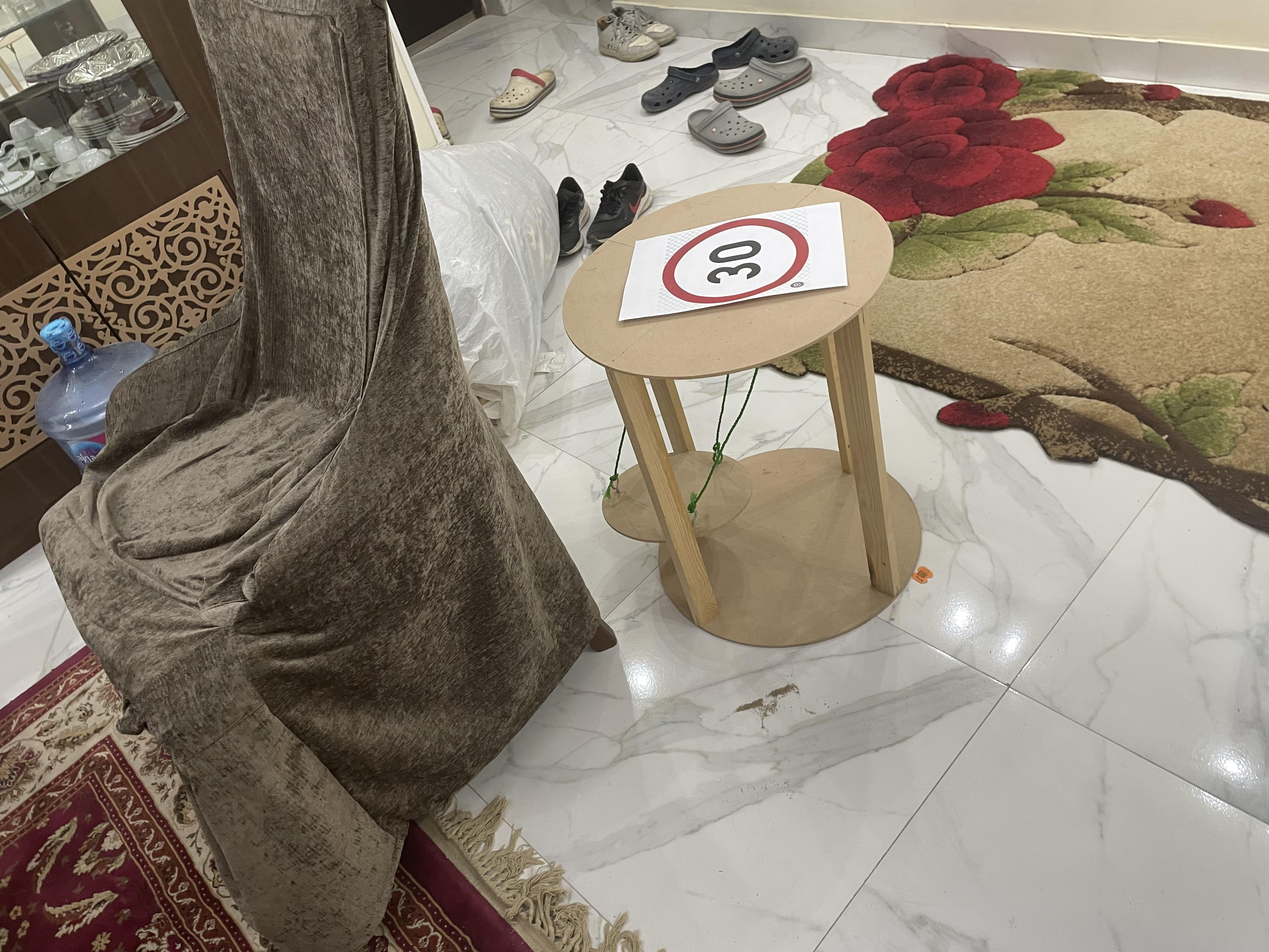30-speed: (659, 211, 811, 308)
